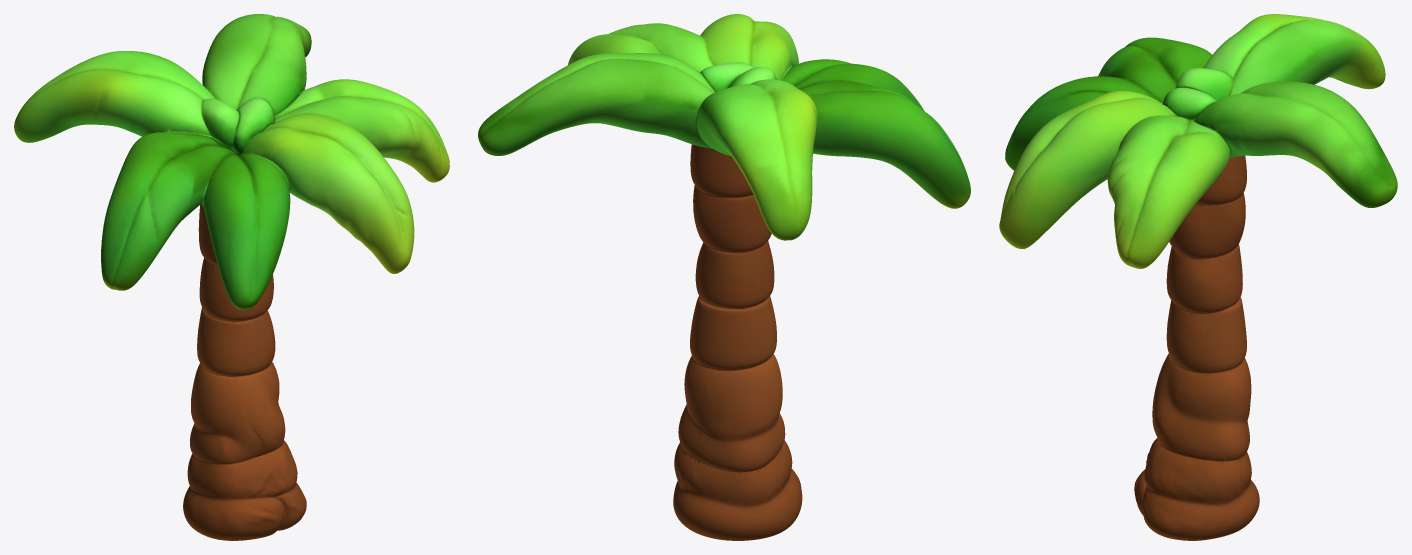
Rendered from palm_clay.glb.
3 views of the same model, side by side, from view 1: azimuth 30°, elevation 25°; view 2: azimuth 150°, elevation 25°; view 3: azimuth 270°, elevation 25° (orthographic). The views are drawn at different scales.
Bounding box in the file's own units: 1.58 × 1.9 × 1.48.
Materials: 1 (1 with a texture image).
